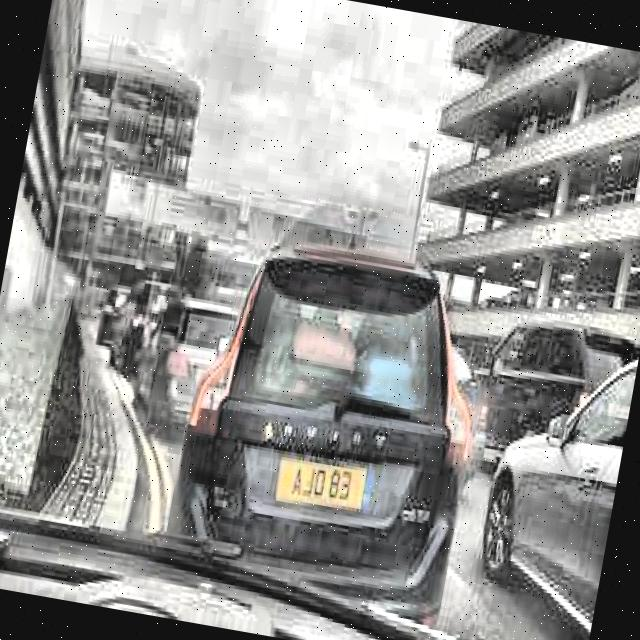license_plate: (280, 454, 369, 514)
